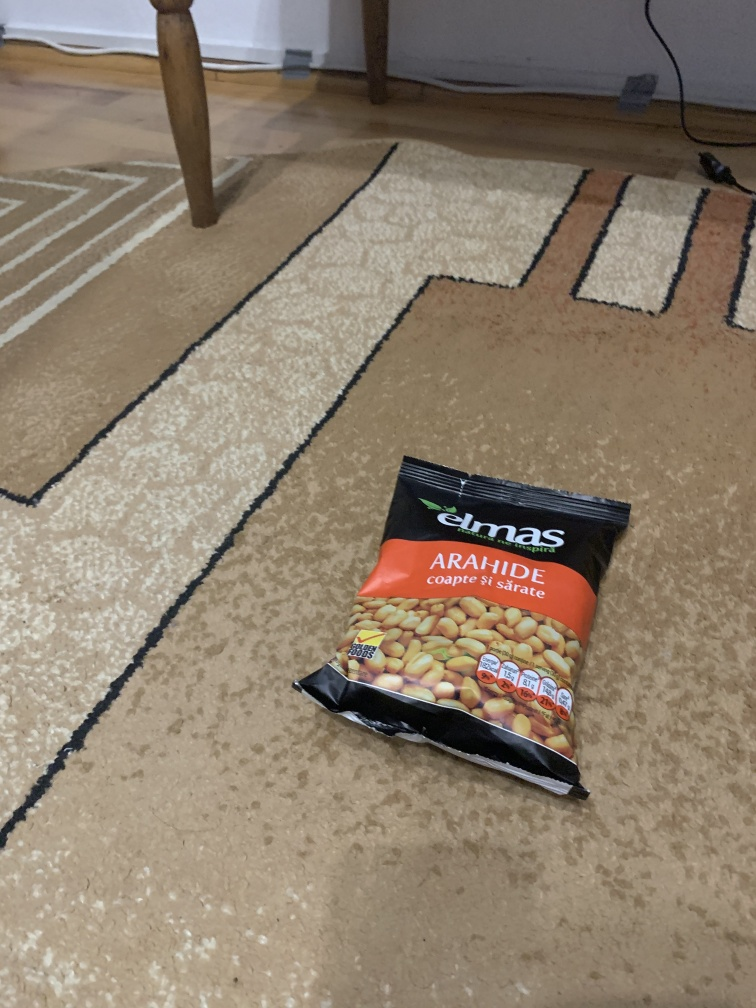peanuts: (298, 455, 633, 819)
